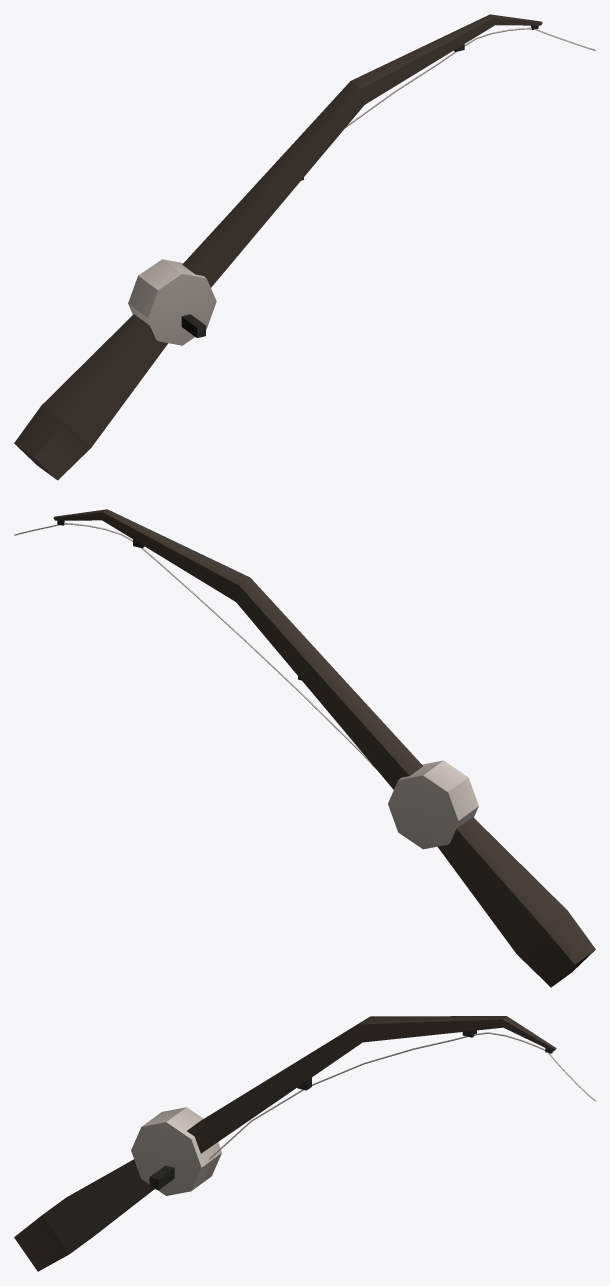
File: Fishing_Rod.fbx
The picture shows the model from 3 angles, top to bottom: view 1: azimuth 30°, elevation 25°; view 2: azimuth 150°, elevation 25°; view 3: azimuth 330°, elevation 25°; orthographic projection. The views are drawn at different scales.
Parts seen in each view (by area): view 1: Fishing Rod; view 2: Fishing Rod; view 3: Fishing Rod.
Boxes of the visible parts, x1,y1,x2,y2 form: Fishing Rod: [14, 14, 595, 480]; Fishing Rod: [14, 509, 595, 987]; Fishing Rod: [14, 1016, 595, 1271].
Bounding box in the file's own units: 299 × 177 × 34.12.
